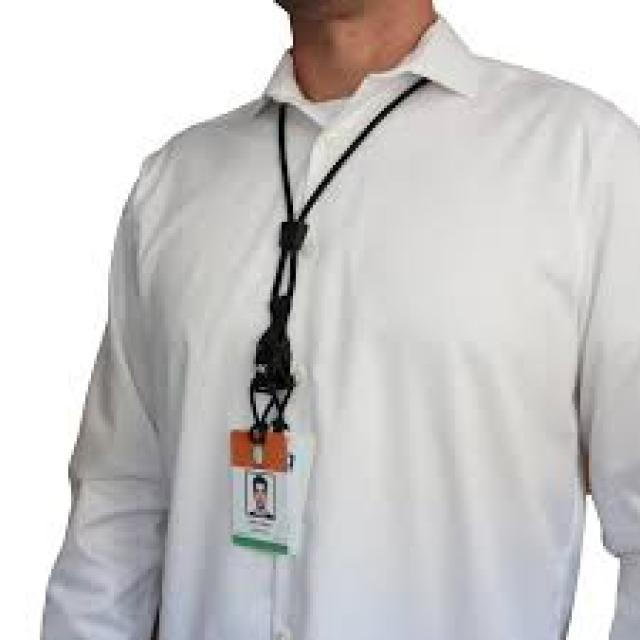id_card: (224, 102, 400, 560)
